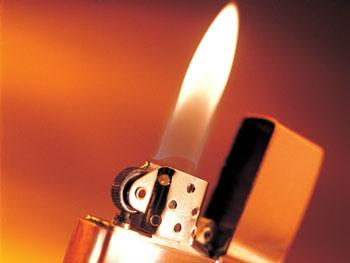fire: (150, 3, 245, 178)
